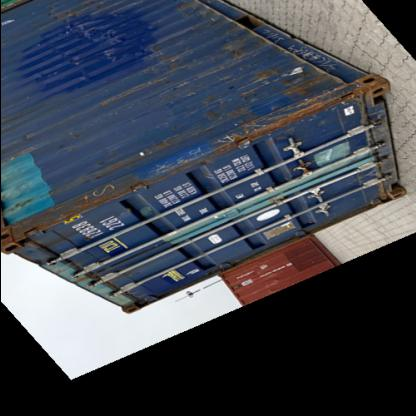Damage: (214, 70, 362, 146), (101, 62, 176, 108), (60, 12, 137, 56), (56, 182, 120, 226), (2, 186, 46, 218), (217, 31, 257, 64), (14, 124, 38, 150)
